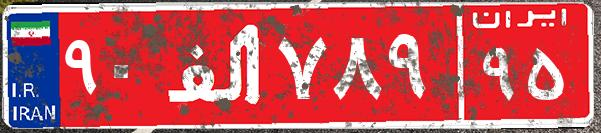0: (110, 28, 158, 105)
5: (525, 38, 570, 115)
7: (273, 28, 330, 110)
8: (330, 28, 385, 110)
9: (385, 28, 445, 110), (57, 26, 110, 107), (475, 38, 525, 113)
الف: (158, 15, 273, 115)
